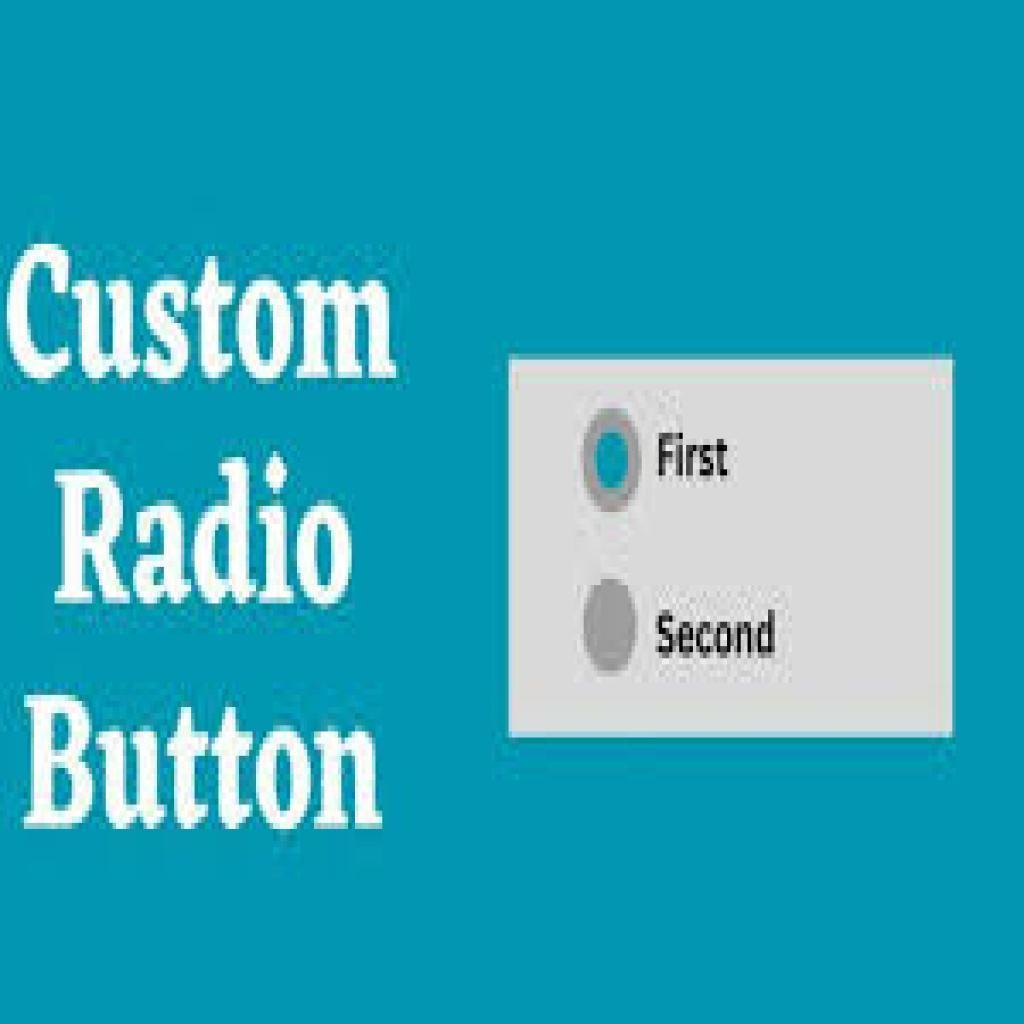radio: (580, 408, 642, 515), (582, 576, 639, 676)
